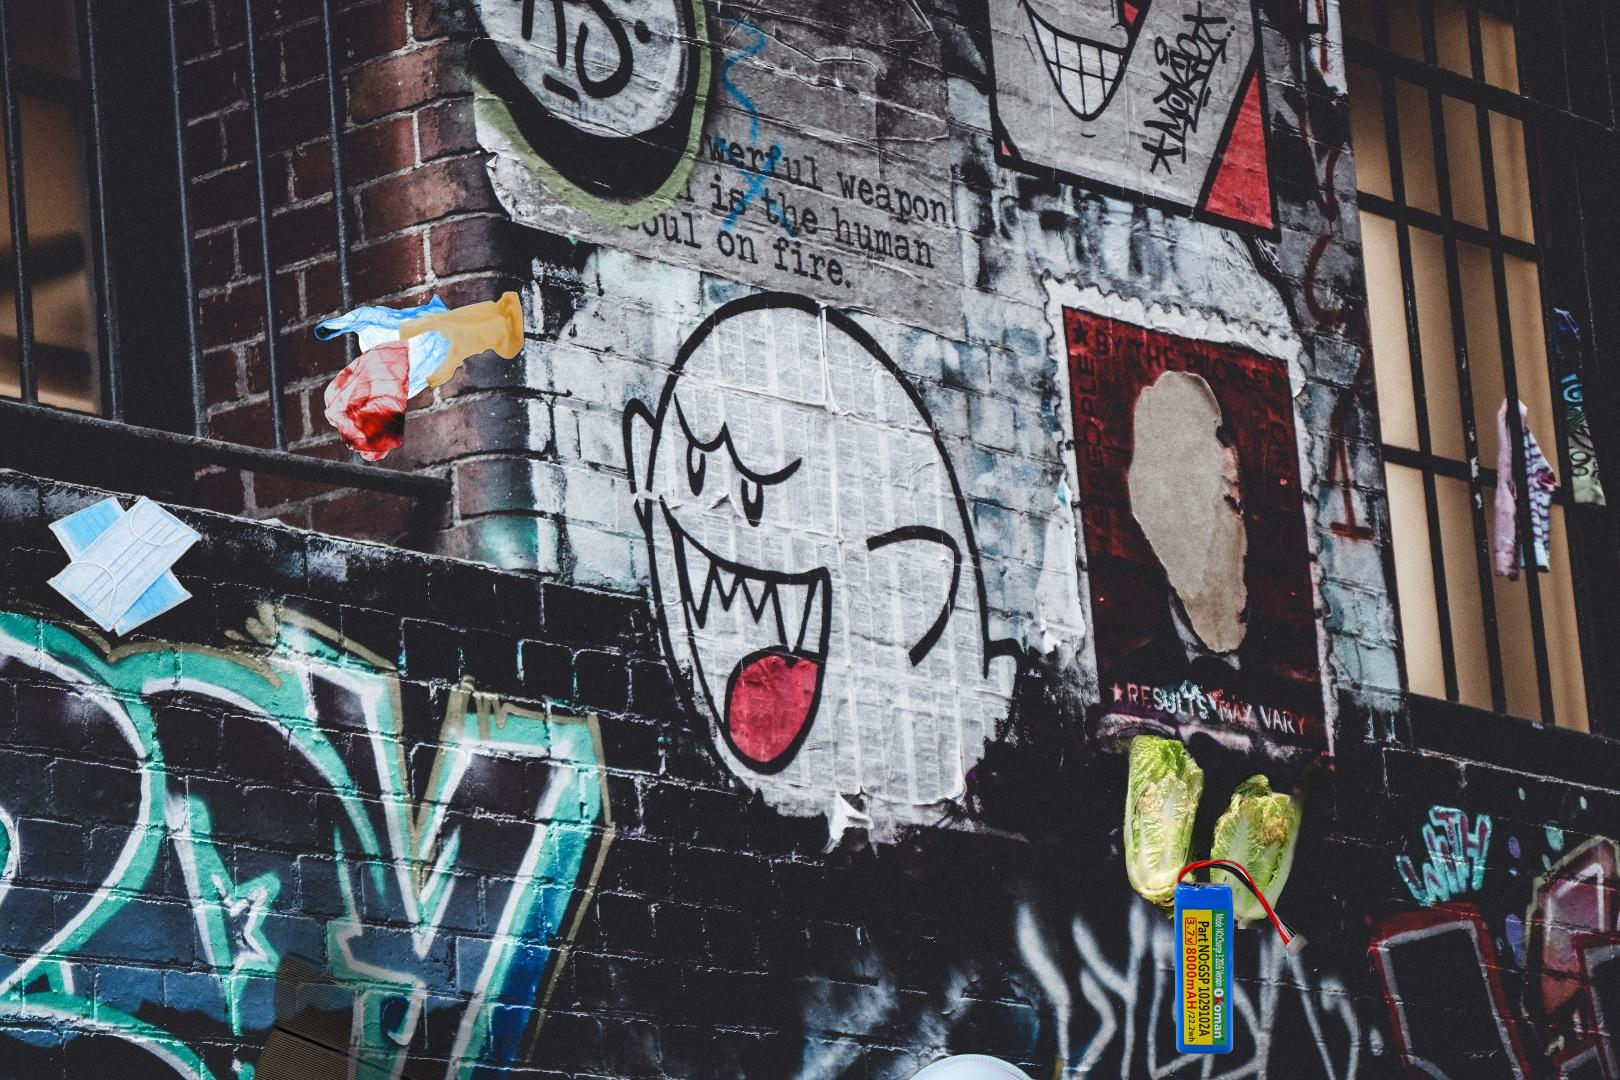battery: (1170, 857, 1313, 1057)
biological: (1075, 735, 1336, 929)
plastic-bag: (313, 288, 527, 465)
plastic-bottles: (212, 799, 577, 1080)
trash: (43, 492, 206, 640), (870, 1037, 1102, 1080)
